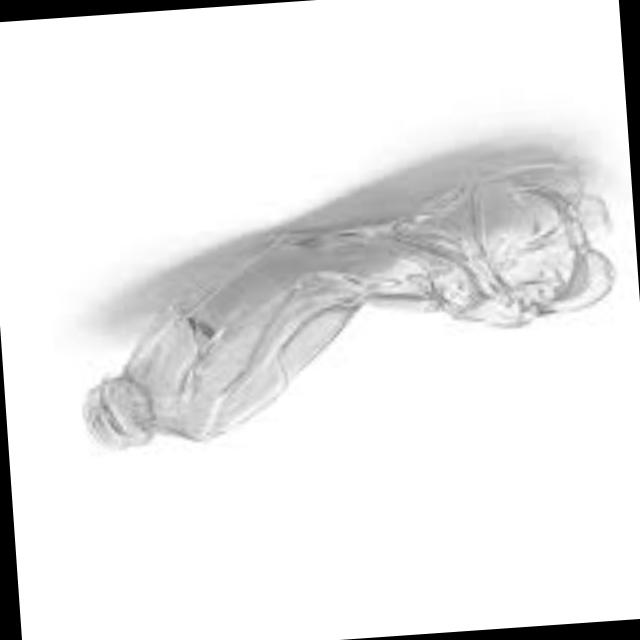plastic: (79, 174, 607, 454)
